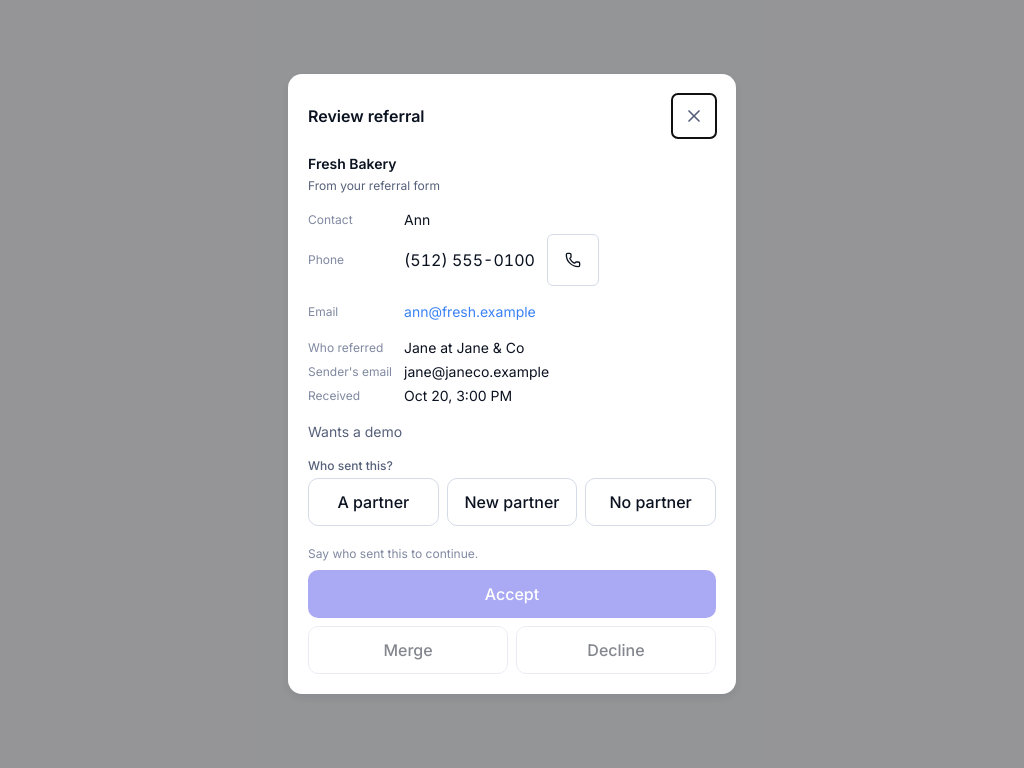
ReviewFormSubmissionSheet › keeps the actions off until you say who sent it
The width and height of the screenshot is (1024, 768).
Expected: the text "Say who sent this to continue." is shown, [308,546,478,561]
Expected: the button "Accept" is disabled, [308,570,716,618]
Click the button "A partner" at point(373, 502), box [308,478,439,526]
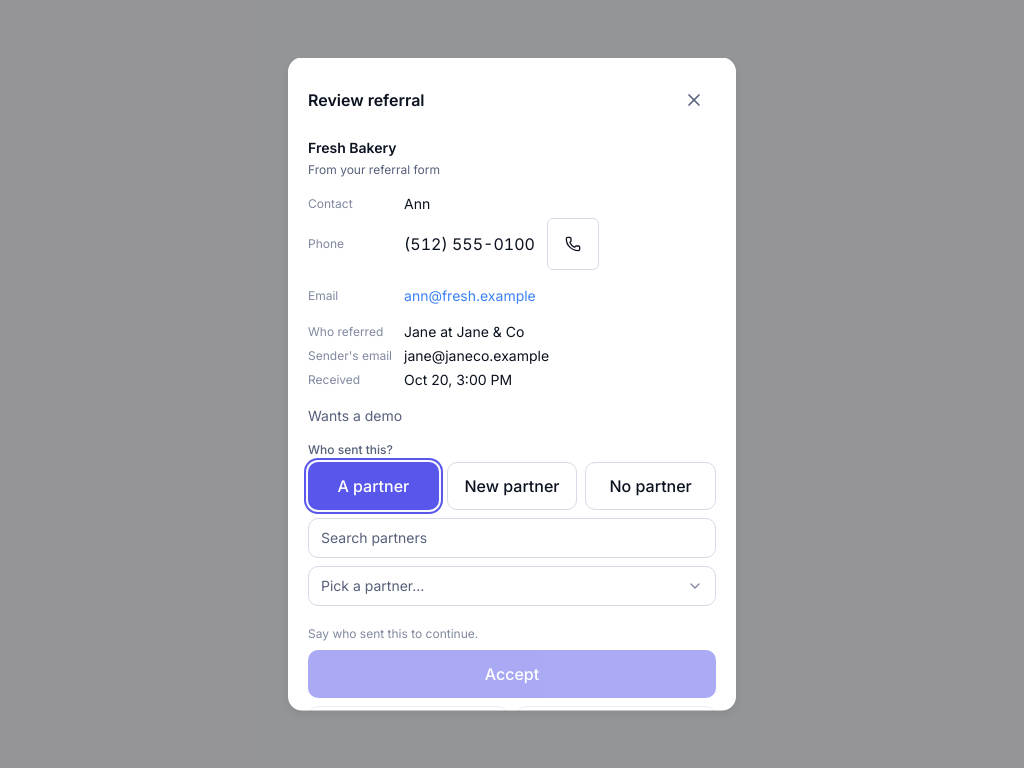
Expected: the button "Accept" is disabled, [308,650,716,698]
Click the button "No partner" at point(651, 486), box [585,462,716,510]
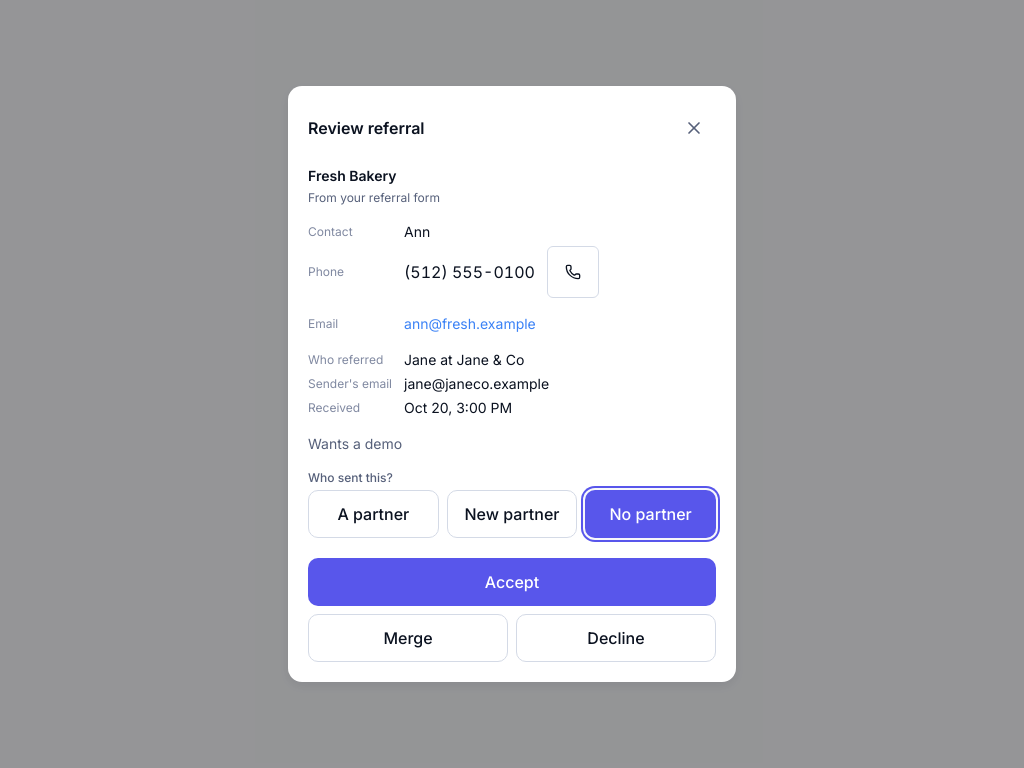
Result: the button "Accept" is enabled at [308,558,716,606]
